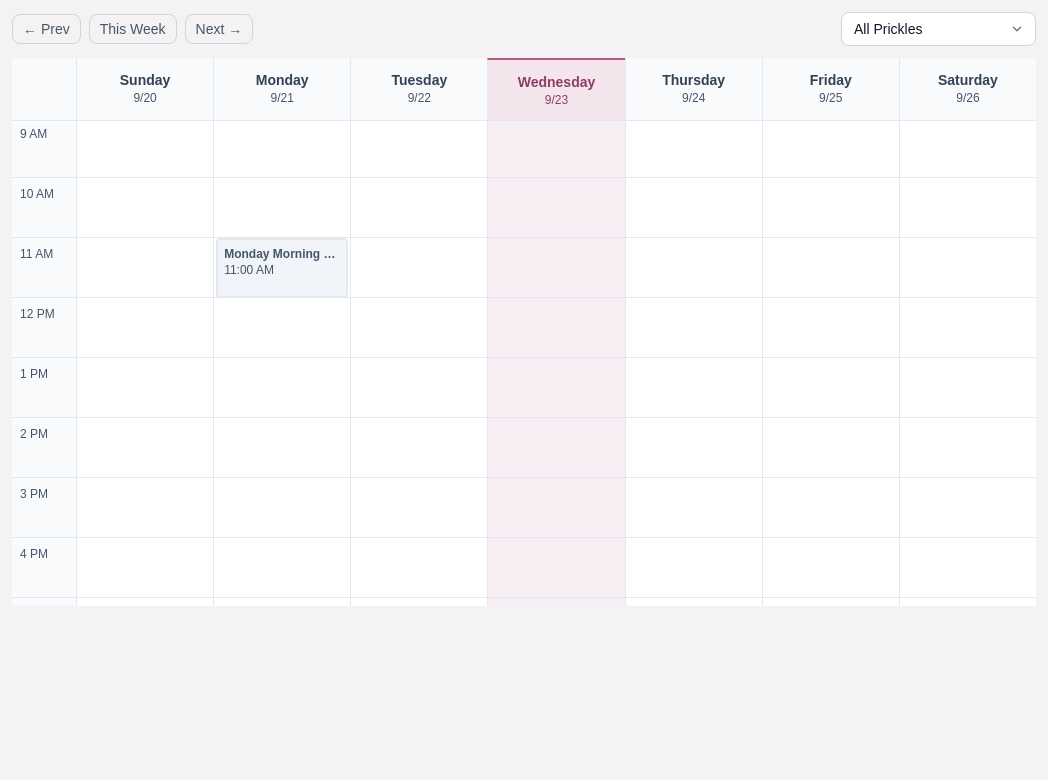
it: AllPricklesCalendar › returns to the current week with This Week
(page scrolled)
Click the button "← Prev". click: (46, 29)
box: [12,14,81,44]
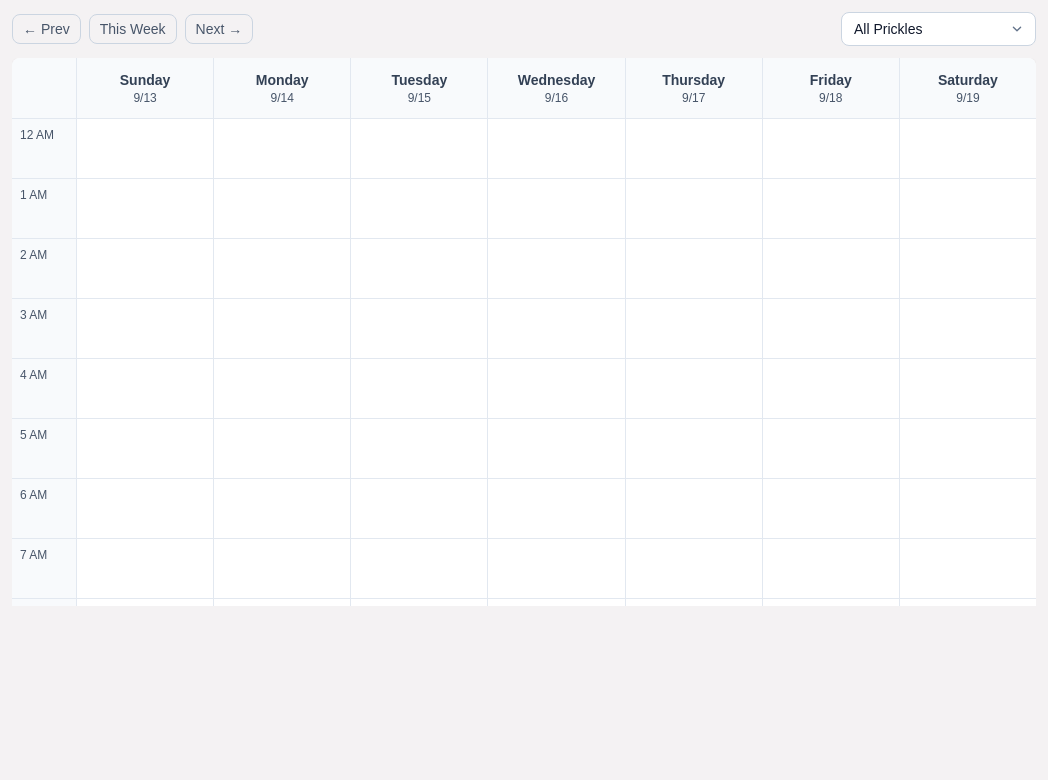
Click the button "← Prev". click: (46, 29)
box: [12,14,81,44]
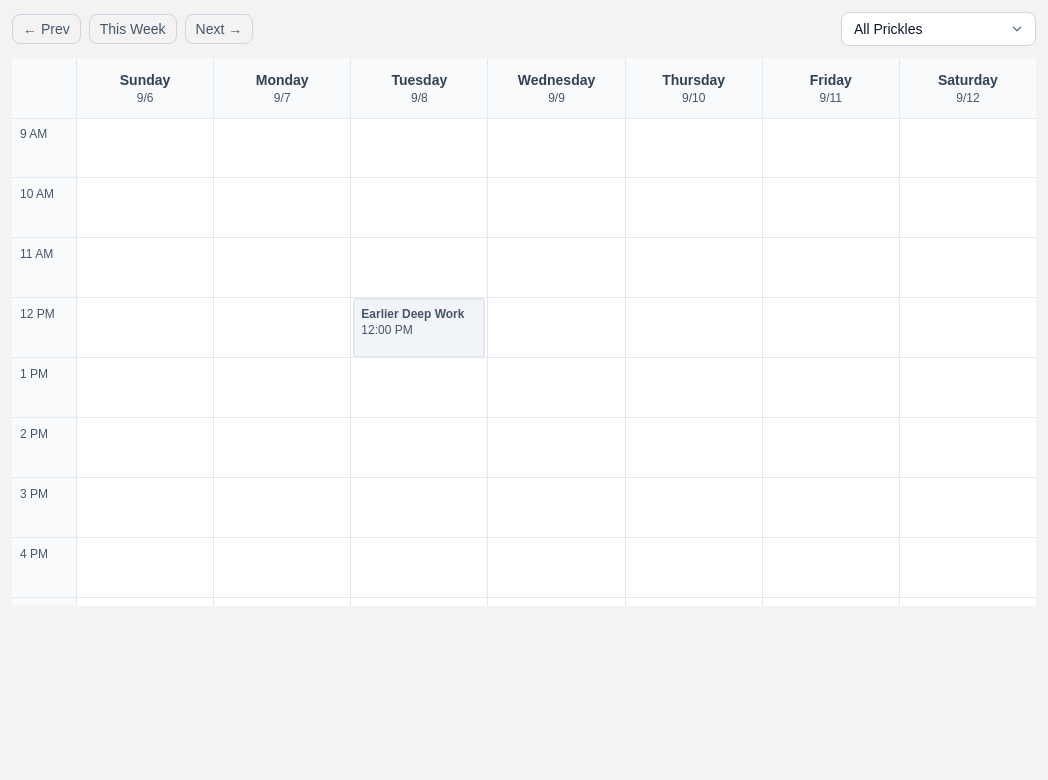
Expected: the text "9/6" is shown, [137,91,153,105]
Click the button "This Week". click: (133, 29)
box: [89,14,177,44]
(page scrolled)
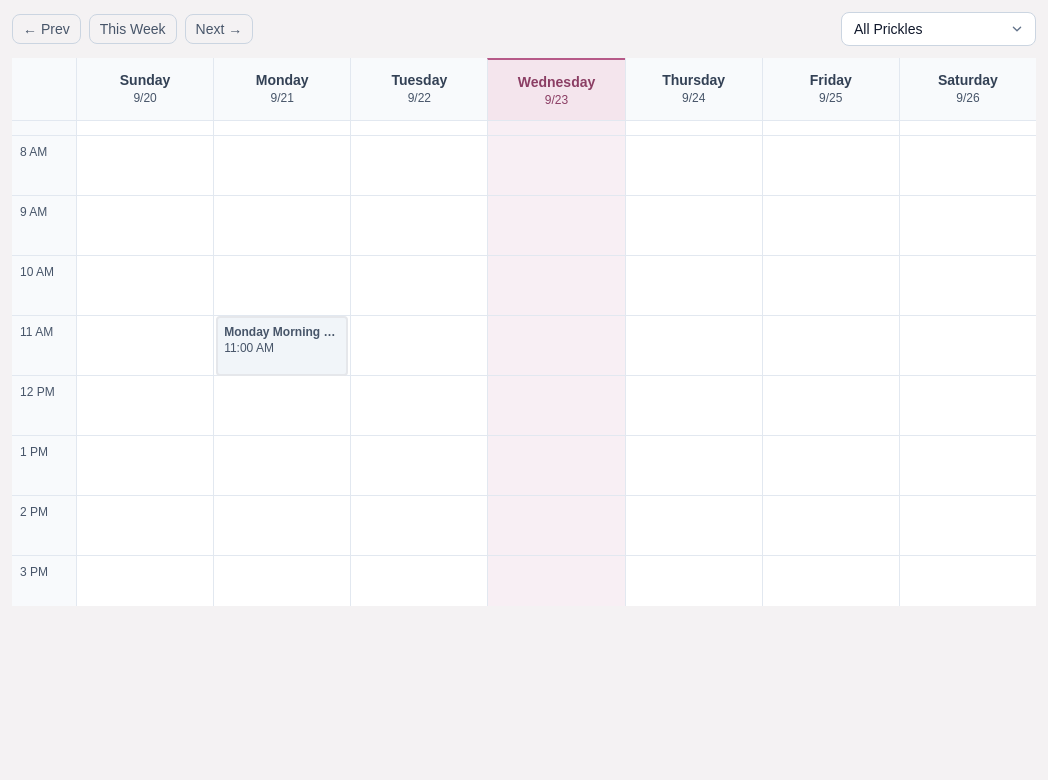
Expected: the text "9/20" is shown, [133,91,157,105]
Expected: the text "Monday Morning Sprint" is shown, [224,324,340,340]
